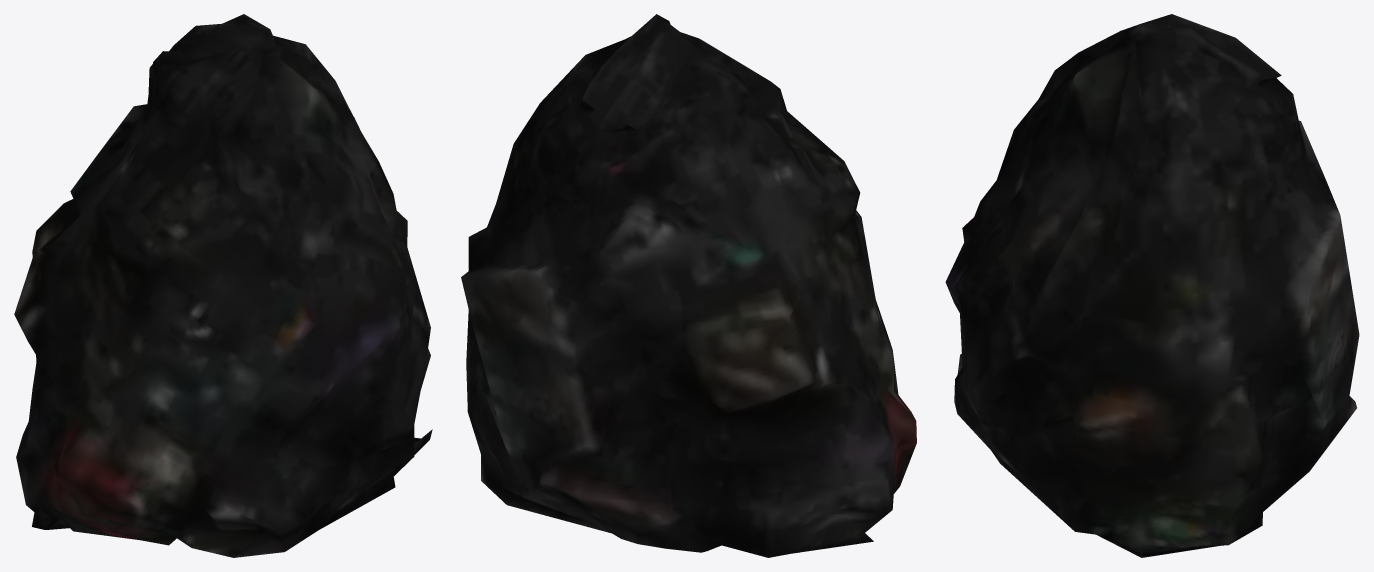
File: sac_poubelle_lod1.glb
The picture shows the model from 3 angles, left to right: view 1: azimuth 30°, elevation 25°; view 2: azimuth 150°, elevation 25°; view 3: azimuth 270°, elevation 25°; orthographic projection. The views are drawn at different scales.
Visible parts, largest first — view 1: trashbag; view 2: trashbag; view 3: trashbag.
Boxes of the visible parts, <box> form: trashbag: <box>14,14,432,557</box>; trashbag: <box>461,14,916,557</box>; trashbag: <box>945,14,1359,557</box>.
Size of the model in its own units: 0.5231 by 0.5712 by 0.4629.
1 material, 1 textured.
